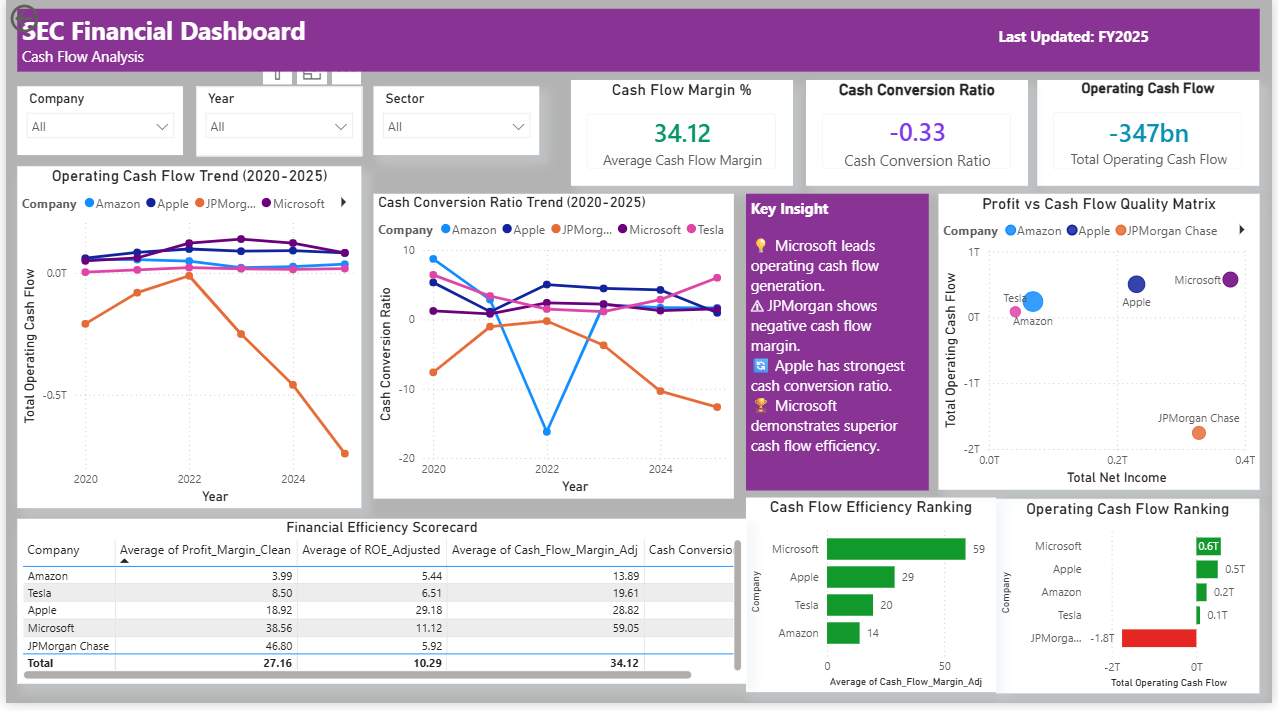

The page's visual inventory and layout, read from the dashboard file:
{"tool":"powerbi","page":{"name":"Cash Flow Analysis","canvas":[1368,760],"ordinal":2},"visuals":[{"type":"slicer","fields":{"Values":["SEC_Financials_Quarterly.Sector"]},"box":[397.4,93.6,179.5,74.4],"z":0},{"type":"cardVisual","title":"Operating Cash Flow","fields":{"Data":["SEC_Financials_Quarterly.Total Operating Cash Flow"]},"box":[1115.4,85.9,239.7,114.1],"z":1000},{"type":"cardVisual","title":"Cash Flow Margin %","fields":{"Data":["SEC_Financials_Quarterly.Average Cash Flow Margin"]},"box":[610.3,85.9,239.7,114.1],"z":2000},{"type":"cardVisual","title":"Cash Conversion Ratio","fields":{"Data":["SEC_Financials_Quarterly.Cash Conversion Ratio"]},"box":[865.4,85.9,239.7,114.1],"z":3000},{"type":"clusteredBarChart","title":"Operating Cash Flow Ranking","fields":{"Category":["SEC_Financials_Quarterly.Company"],"Y":["SEC_Financials_Quarterly.Total Operating Cash Flow"]},"box":[1070,538.8,285,210],"z":4000},{"type":"clusteredBarChart","title":"Cash Flow Efficiency Ranking","fields":{"Category":["SEC_Financials_Quarterly.Company"],"Y":["Avg(SEC_Financials_Quarterly.Cash_Flow_Margin_Adj)"]},"box":[800,538.5,270.5,210.3],"z":5000},{"type":"scatterChart","title":"Profit vs Cash Flow Quality Matrix","fields":{"X":["SEC_Financials_Quarterly.Total Net Income"],"Y":["SEC_Financials_Quarterly.Total Operating Cash Flow"],"Series":["SEC_Financials_Quarterly.Company"],"Size":["SEC_Financials_Quarterly.Total Revenue"]},"box":[1007.9,209.2,347.4,319.7],"z":6000},{"type":"lineChart","title":"Operating Cash Flow Trend (2020-2025)","fields":{"Category":["DateTable.Year"],"Y":["SEC_Financials_Quarterly.Total Operating Cash Flow"],"Series":["SEC_Financials_Quarterly.Company"]},"box":[11.8,180.3,372.4,369.7],"z":7000},{"type":"tableEx","title":"Financial Efficiency Scorecard","fields":{"Values":["SEC_Financials_Quarterly.Company","Avg(SEC_Financials_Quarterly.Profit_Margin_Clean)","Avg(SEC_Financials_Quarterly.ROE_Adjusted)","Avg(SEC_Financials_Quarterly.Cash_Flow_Margin_Adj)","SEC_Financials_Quarterly.Cash Conversion Ratio"]},"box":[11.5,560.3,788.5,178.2],"z":8000},{"type":"slicer","fields":{"Values":["SEC_Financials_Quarterly.Company"]},"box":[11.5,93.6,179.5,74.4],"z":9000},{"type":"slicer","fields":{"Values":["DateTable.Year"]},"box":[205.1,93.6,179.5,75.6],"z":10000},{"type":"textbox","box":[11.5,9,1343.6,67.9],"z":11000},{"type":"textbox","box":[1057.7,23.1,192.3,38.5],"z":12000},{"type":"lineChart","title":"Cash Conversion Ratio Trend (2020-2025)","fields":{"Category":["DateTable.Year"],"Y":["SEC_Financials_Quarterly.Cash Conversion Ratio"],"Series":["SEC_Financials_Quarterly.Company"]},"box":[397.4,209,389.7,329.5],"z":13000},{"type":"textbox","box":[800,209,197.4,320.5],"z":14000},{"type":"actionButton","box":[0,0,100,40],"z":15000}]}

Visuals, with their boxes in screenshot pixels (x1, y1, x2, y2), scaled from the page's 1368x760 canvas onto the 1278x711 screenshot:
slicer - SEC_Financials_Quarterly.Sector: (x1=371, y1=88, x2=539, y2=157)
"Operating Cash Flow" cardVisual: (x1=1042, y1=80, x2=1266, y2=187)
"Cash Flow Margin %" cardVisual: (x1=570, y1=80, x2=794, y2=187)
"Cash Conversion Ratio" cardVisual: (x1=808, y1=80, x2=1032, y2=187)
"Operating Cash Flow Ranking" clusteredBarChart: (x1=1000, y1=504, x2=1266, y2=701)
"Cash Flow Efficiency Ranking" clusteredBarChart: (x1=747, y1=504, x2=1000, y2=701)
"Profit vs Cash Flow Quality Matrix" scatterChart: (x1=942, y1=196, x2=1266, y2=495)
"Operating Cash Flow Trend (2020-2025)" lineChart: (x1=11, y1=169, x2=359, y2=515)
"Financial Efficiency Scorecard" tableEx: (x1=11, y1=524, x2=747, y2=691)
slicer - SEC_Financials_Quarterly.Company: (x1=11, y1=88, x2=178, y2=157)
slicer - DateTable.Year: (x1=192, y1=88, x2=359, y2=158)
textbox: (x1=11, y1=8, x2=1266, y2=72)
textbox: (x1=988, y1=22, x2=1168, y2=58)
"Cash Conversion Ratio Trend (2020-2025)" lineChart: (x1=371, y1=196, x2=735, y2=504)
textbox: (x1=747, y1=196, x2=932, y2=495)
actionButton: (x1=0, y1=0, x2=93, y2=37)
